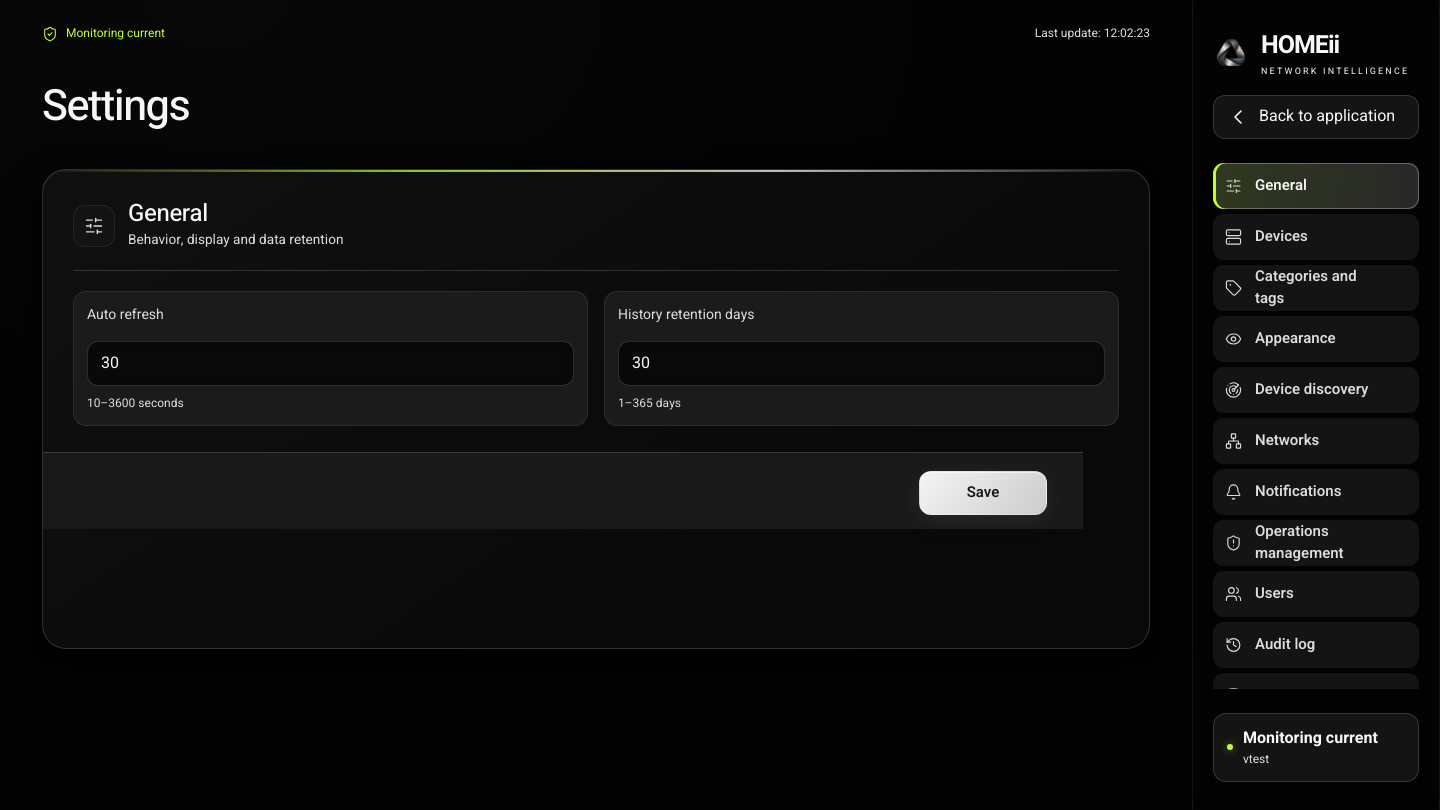
it: secondary forms and navigation › returns from settings and opens it again through navigation
Click the button "Back to application": (1316, 117) [1213,95,1419,139]
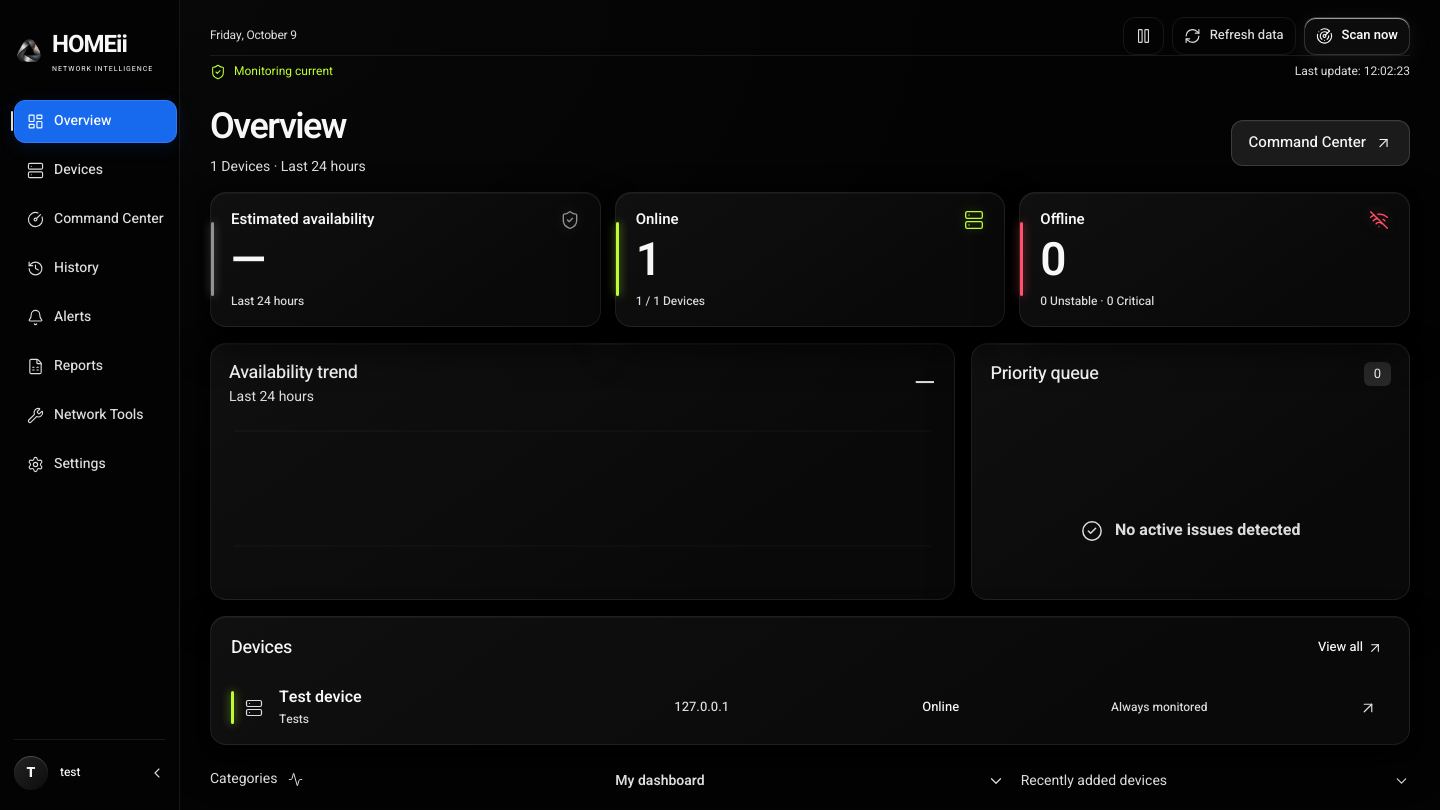
Click the button "Settings": (95, 464) [14,443,177,486]
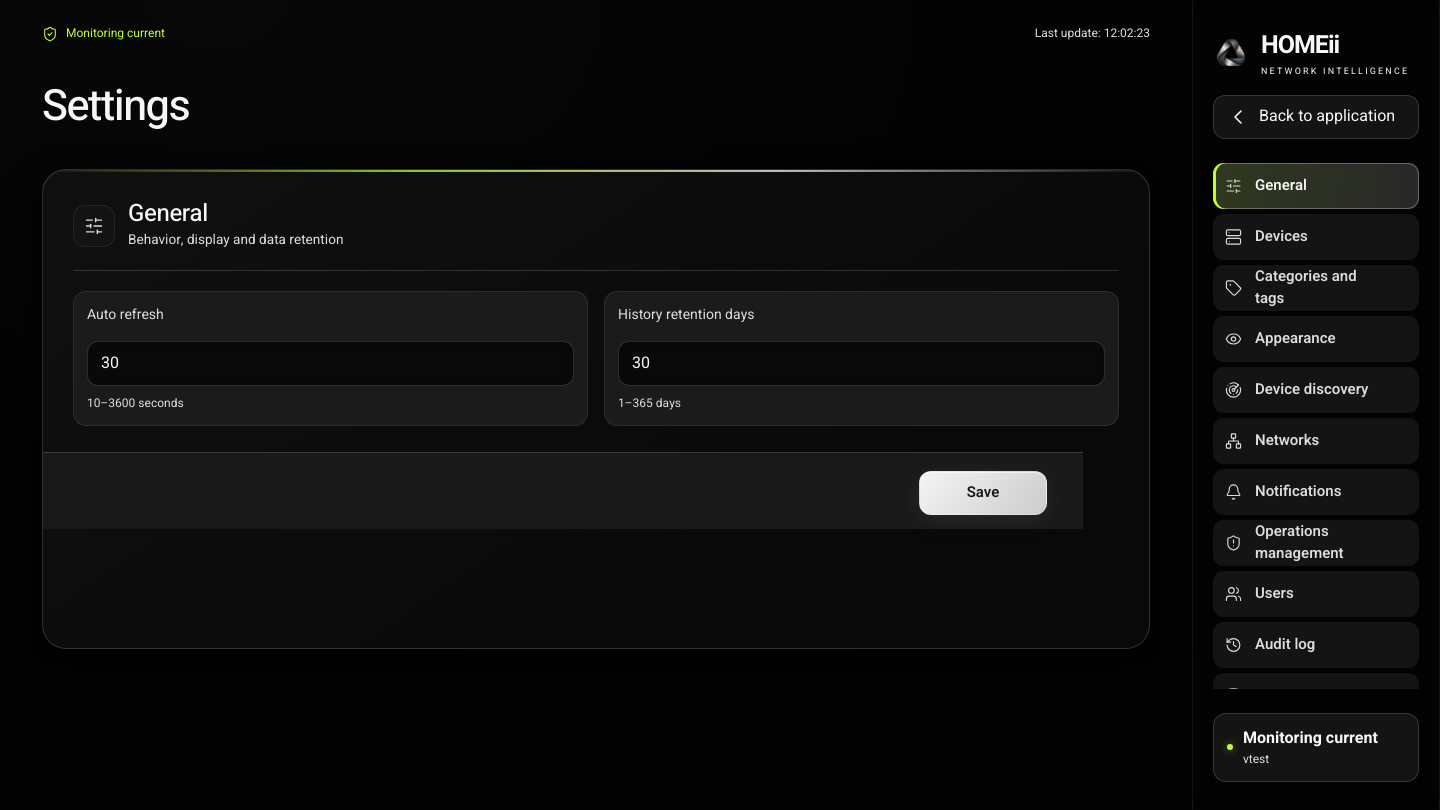
Expected: the heading "Settings" is shown, [42,80,189,134]
